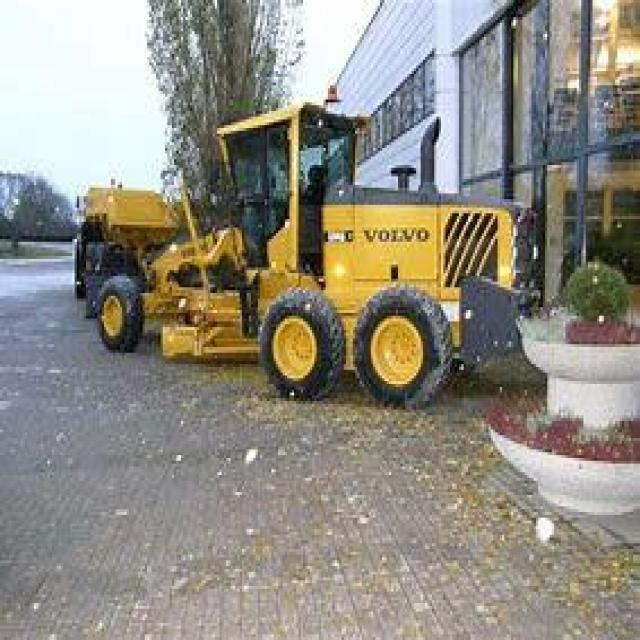Grader: (84, 91, 536, 401)
